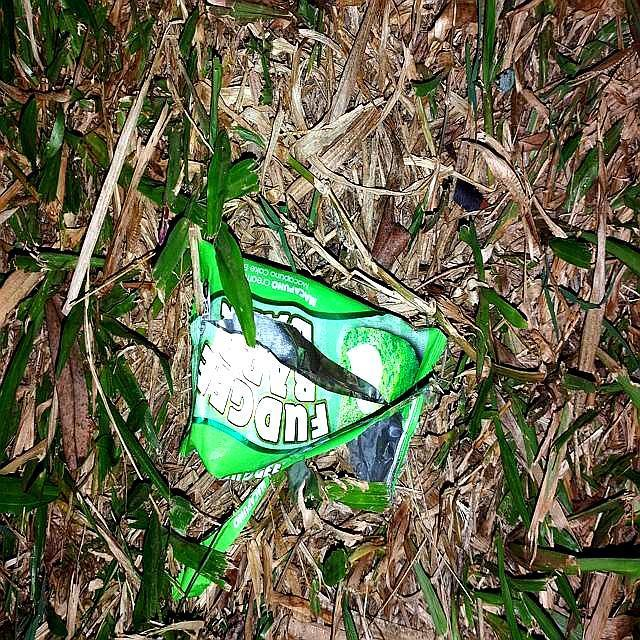Non-biodegradable: (180, 241, 436, 489)
